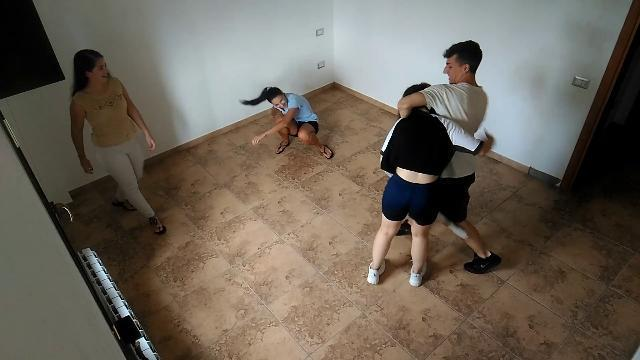non-violence: (66, 48, 174, 238), (237, 82, 336, 166)
violence: (366, 38, 504, 290)
